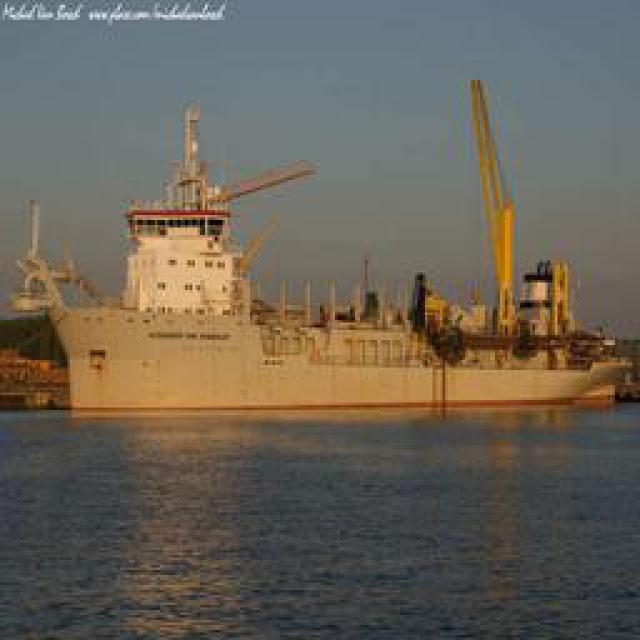Ship: (29, 270, 632, 420)
